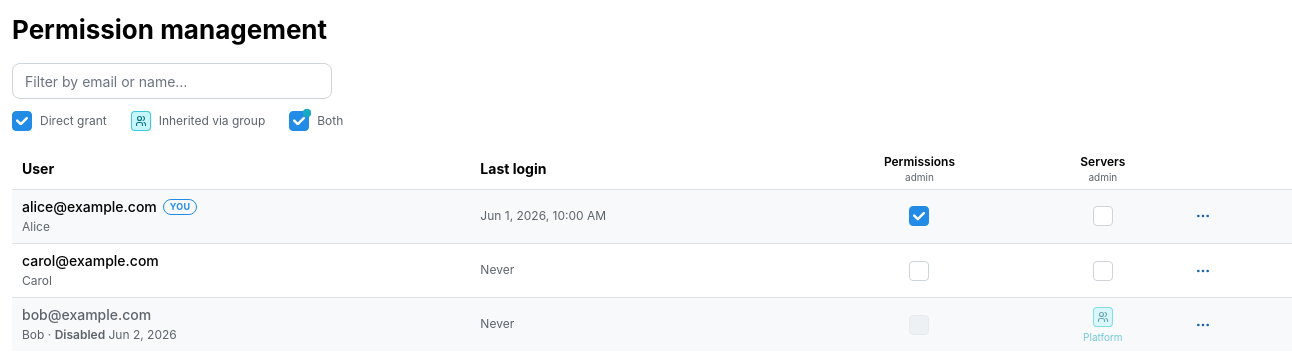
Test: PermissionsAdminPage provenance › does not offer to disable your own account
Click the button named "account actions for alice": {"x": 1203, "y": 216} [1189,202,1217,230]
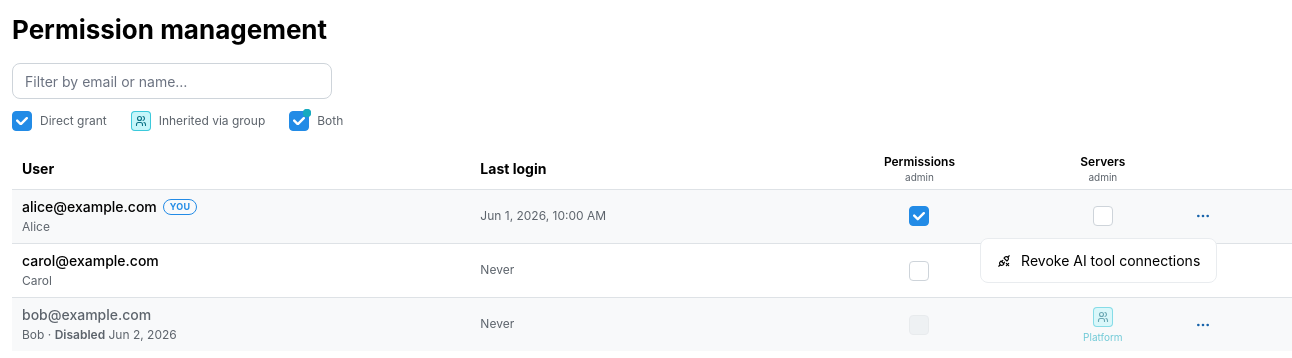
Result: the text "Revoke AI tool connections" is shown at [1021,250,1200,272]
